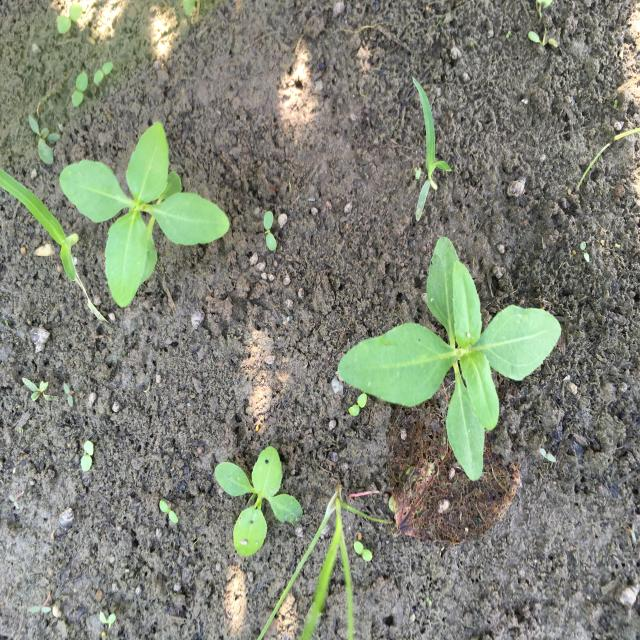Eclipta: (334, 234, 564, 484), (57, 119, 233, 311), (212, 443, 306, 563)
